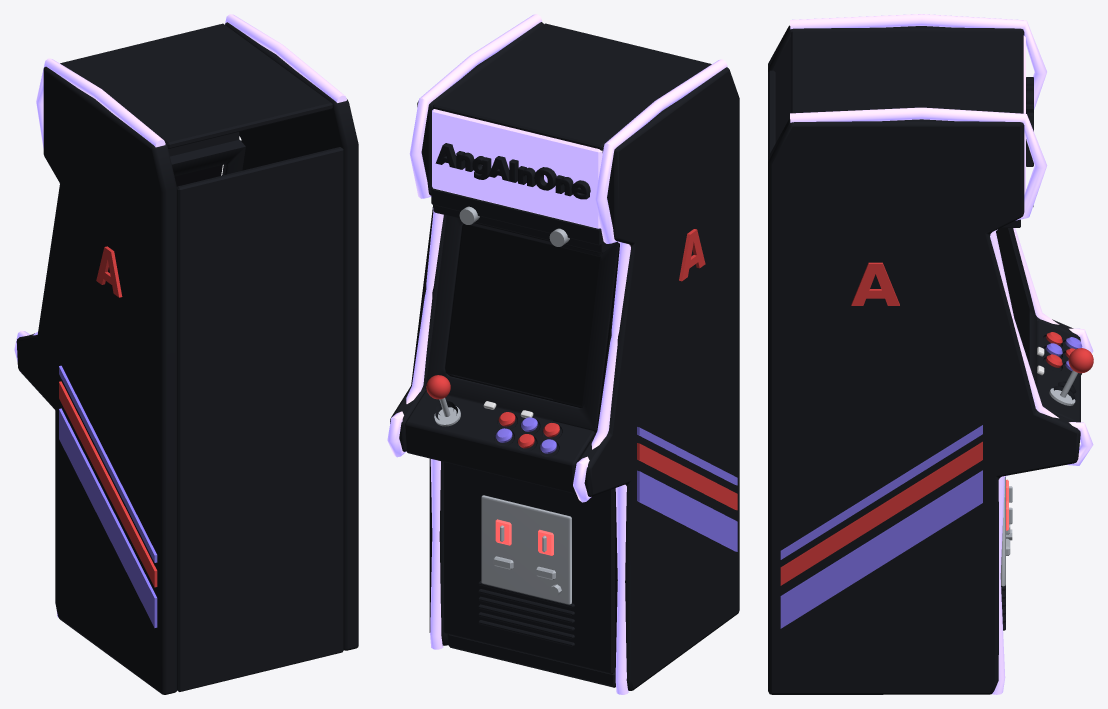
The model's file is ArcadeCabinet.glb.
The picture shows the model from 3 angles, left to right: view 1: azimuth 30°, elevation 25°; view 2: azimuth 150°, elevation 25°; view 3: azimuth 270°, elevation 25°; orthographic projection. The views are drawn at different scales.
Parts seen in each view (by area): view 1: Cabinet__SmoothPlastic__16181E, ArtPurple__SmoothPlastic__8B7CFF, Glow__Neon__8B7CFF, ArtRed__SmoothPlastic__E53E3E, Screen__SmoothPlastic__0B0C10; view 2: Cabinet__SmoothPlastic__16181E, Glow__Neon__8B7CFF, Screen__SmoothPlastic__0B0C10, Metal__Metal__B8BEC8, ArtPurple__SmoothPlastic__8B7CFF, ArtRed__SmoothPlastic__E53E3E, CoinLights__Neon__E53E3E; view 3: Cabinet__SmoothPlastic__16181E, Glow__Neon__8B7CFF, ArtPurple__SmoothPlastic__8B7CFF, ArtRed__SmoothPlastic__E53E3E, Screen__SmoothPlastic__0B0C10, Metal__Metal__B8BEC8.
Part boxes in pixels (<box>): Cabinet__SmoothPlastic__16181E: <box>16,22,358,694</box>; ArtPurple__SmoothPlastic__8B7CFF: <box>59,365,157,627</box>; Glow__Neon__8B7CFF: <box>14,14,346,617</box>; ArtRed__SmoothPlastic__E53E3E: <box>59,246,157,587</box>; Screen__SmoothPlastic__0B0C10: <box>174,165,222,186</box>; Cabinet__SmoothPlastic__16181E: <box>390,22,739,690</box>; Glow__Neon__8B7CFF: <box>387,14,727,694</box>; Screen__SmoothPlastic__0B0C10: <box>445,224,600,405</box>; Metal__Metal__B8BEC8: <box>434,206,571,604</box>; ArtPurple__SmoothPlastic__8B7CFF: <box>495,417,737,551</box>; ArtRed__SmoothPlastic__E53E3E: <box>426,229,737,510</box>; CoinLights__Neon__E53E3E: <box>495,519,553,555</box>; Cabinet__SmoothPlastic__16181E: <box>768,25,1081,694</box>; Glow__Neon__8B7CFF: <box>790,14,1093,694</box>; ArtPurple__SmoothPlastic__8B7CFF: <box>780,337,1082,628</box>; ArtRed__SmoothPlastic__E53E3E: <box>780,262,1093,585</box>; Screen__SmoothPlastic__0B0C10: <box>996,228,1029,365</box>; Metal__Metal__B8BEC8: <box>1000,205,1077,586</box>.
Size of the model in its own units: 3.98 by 10.2 by 5.15.
